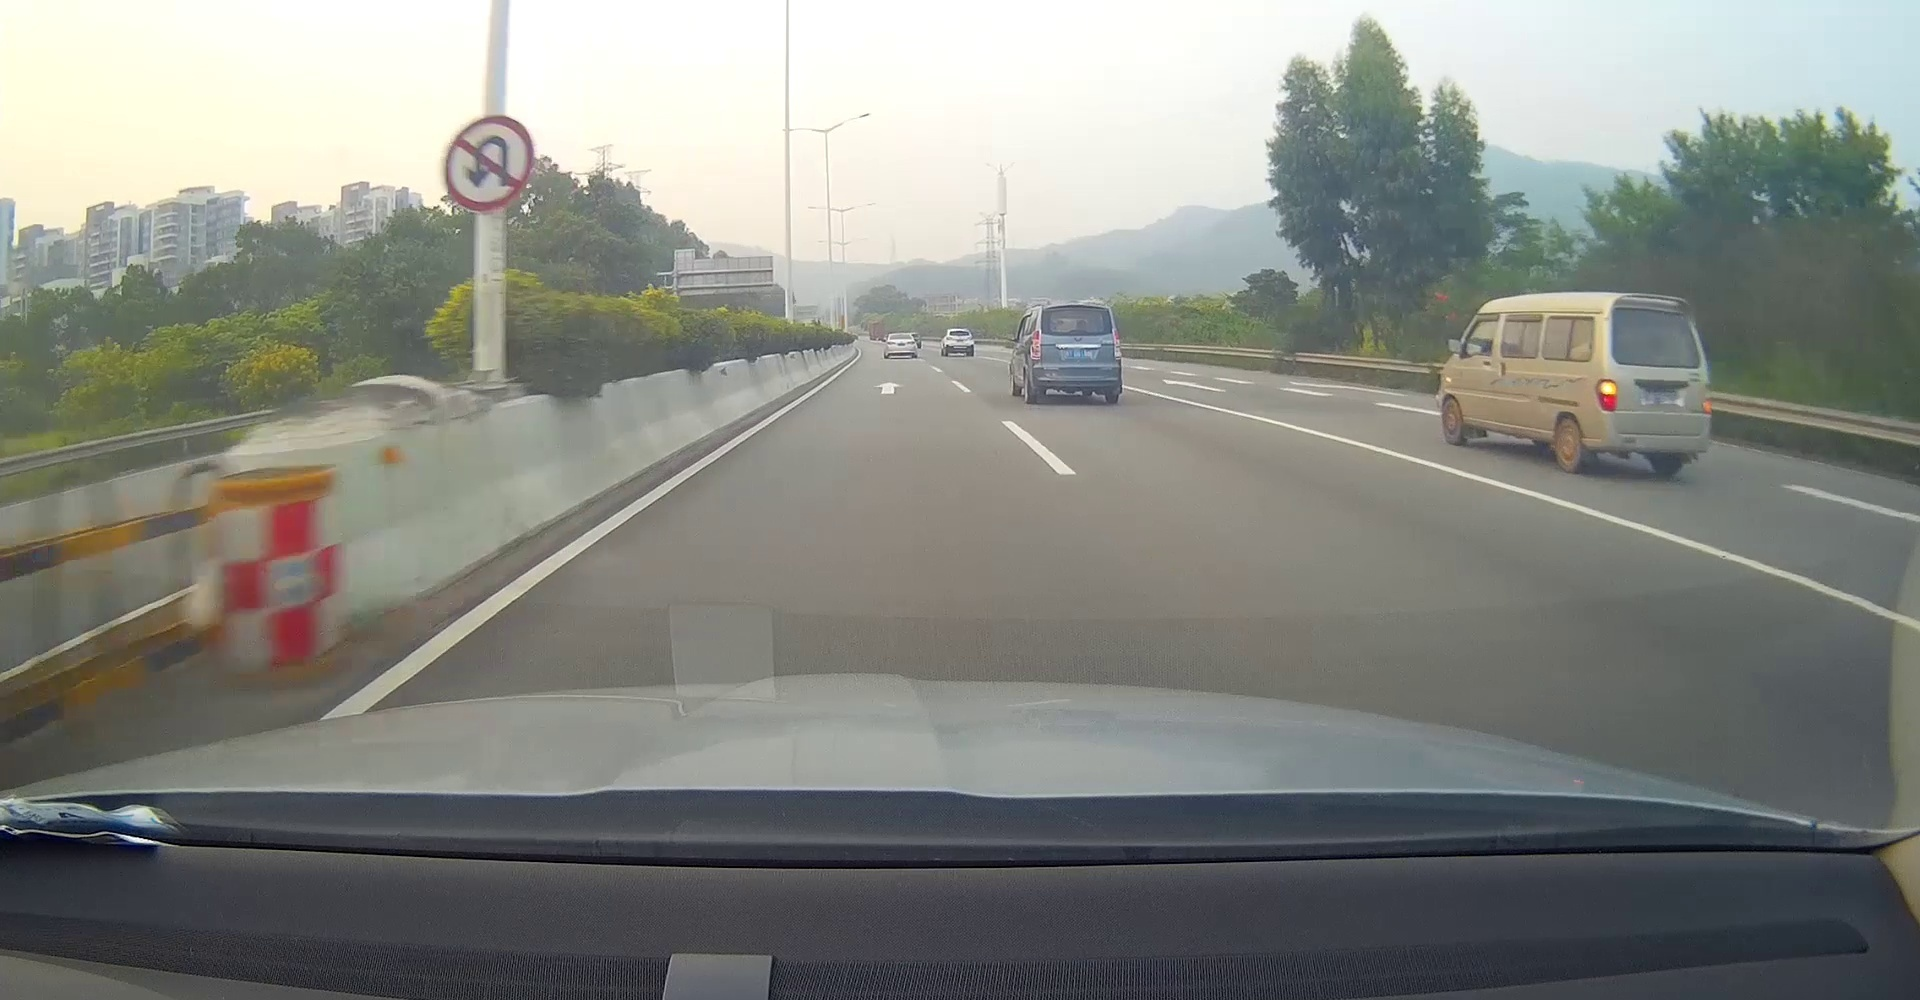L_light: (1597, 379, 1617, 412), (1030, 329, 1041, 360), (888, 341, 895, 345), (946, 336, 952, 340)
R_light: (1112, 327, 1123, 359), (1702, 381, 1710, 414), (907, 341, 916, 345), (968, 336, 973, 340)
T_light: (1643, 308, 1670, 317), (1067, 307, 1084, 311), (897, 335, 903, 338), (956, 330, 963, 332)
day-brake: (1592, 294, 1710, 476)
day-no: (1029, 305, 1123, 405), (883, 332, 918, 360), (943, 329, 974, 357)
